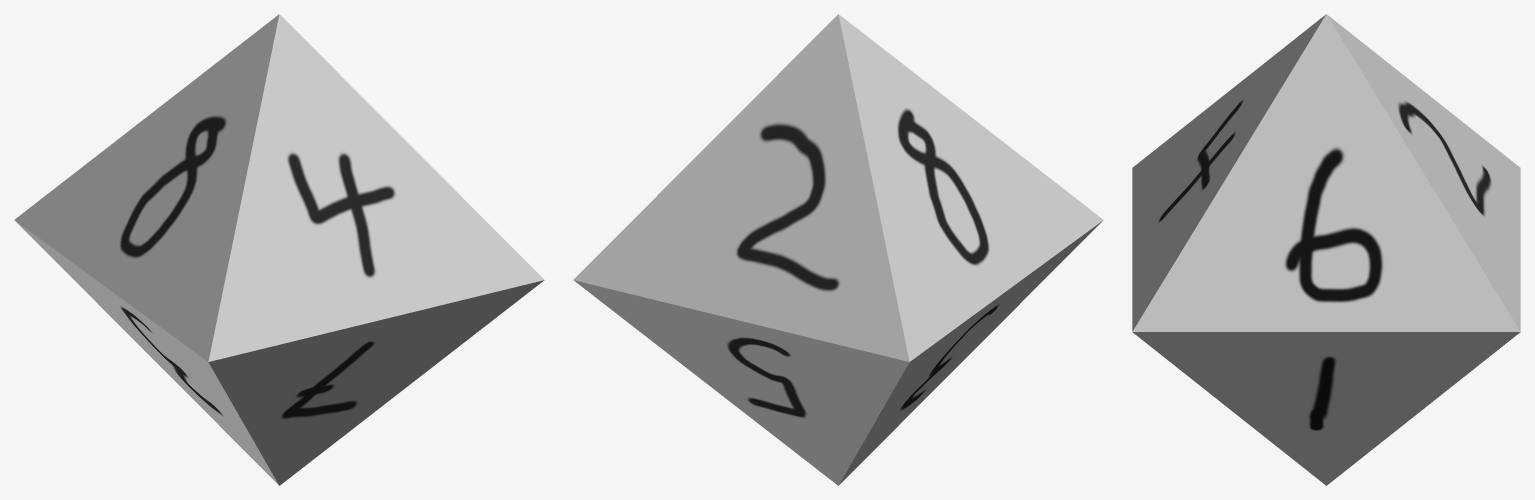
3 views of the same model, side by side, from view 1: azimuth 30°, elevation 25°; view 2: azimuth 150°, elevation 25°; view 3: azimuth 270°, elevation 25° (orthographic).
Visible parts, largest first — view 1: D8; view 2: D8; view 3: D8.
Part boxes in pixels (box(x1,y1,x2,y2)): D8: box(14, 14, 544, 485); D8: box(573, 14, 1103, 485); D8: box(1132, 14, 1520, 485).
Size of the model in its own units: 100 by 134 by 100.
Materials: 1 (1 with a texture image).
